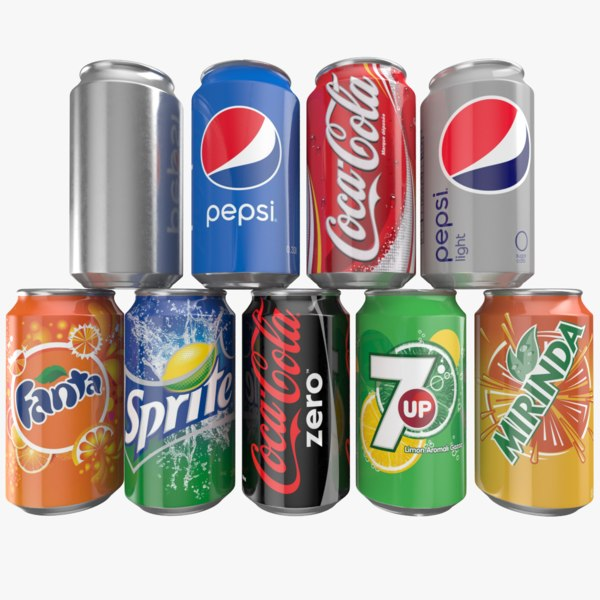metal: (3, 58, 595, 518)
